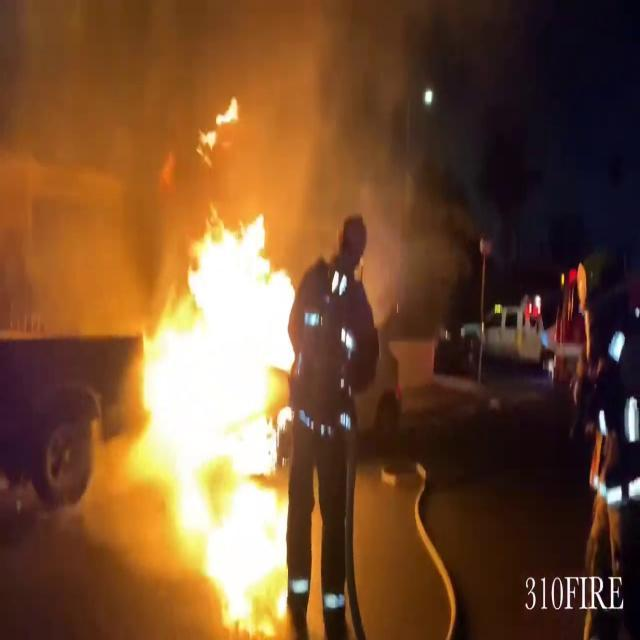Fire: (126, 204, 306, 624)
Smoke: (2, 0, 482, 288)
